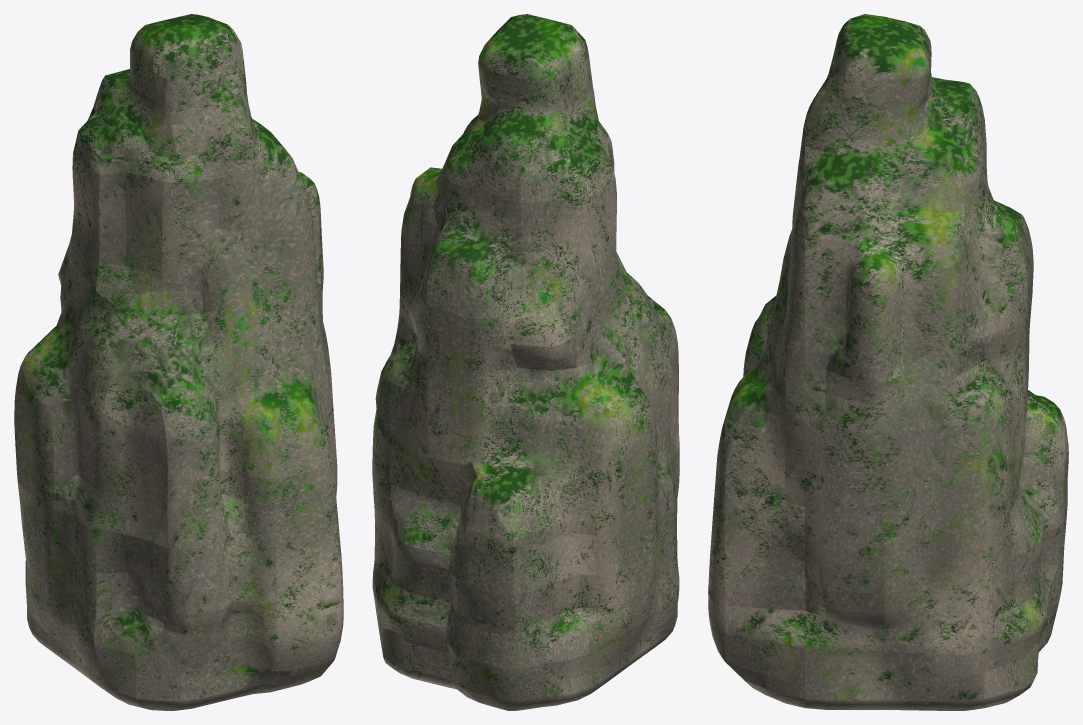
The model's file is reducded cliff.fbx.
3 renders of one model, left to right at view 1: azimuth 30°, elevation 25°; view 2: azimuth 150°, elevation 25°; view 3: azimuth 270°, elevation 25°, orthographic. The views are drawn at different scales.
Parts seen in each view (by area): view 1: Mball.024; view 2: Mball.024; view 3: Mball.024.
Boxes of the visible parts, x1,y1,x2,y2 form: Mball.024: (14, 14, 343, 710); Mball.024: (372, 14, 679, 710); Mball.024: (708, 14, 1068, 710).
Bounding box in the file's own units: 523 × 1206 × 608.
